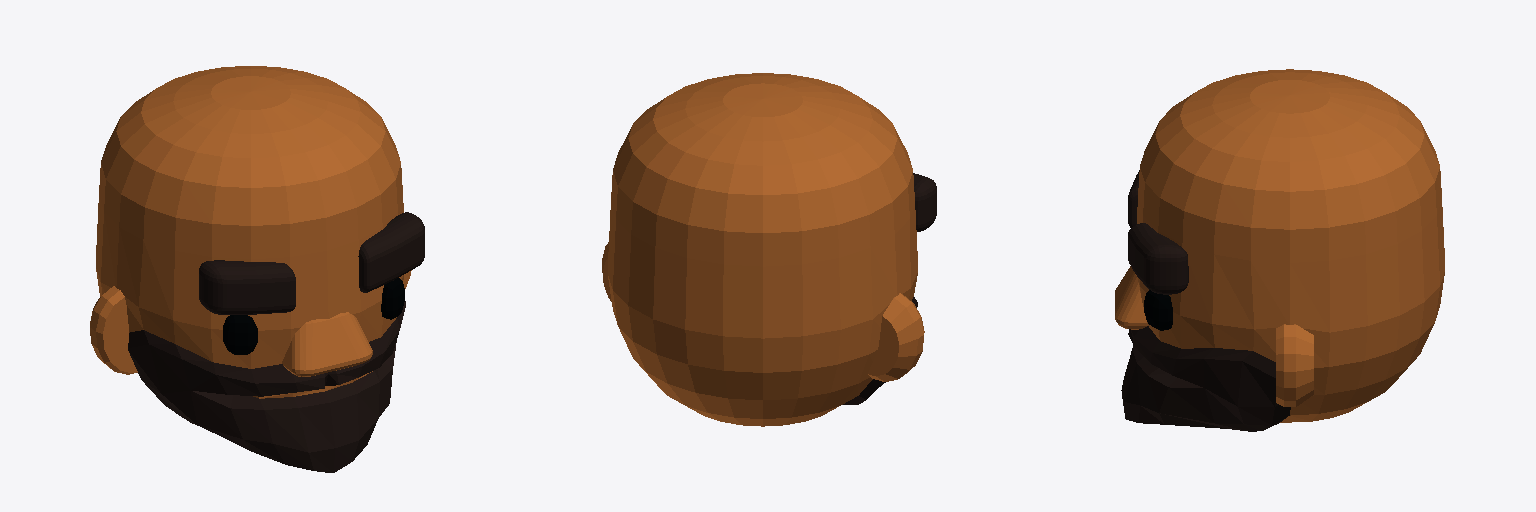
Rendered from barbarianHeadC.obj.
3 renders of one model, left to right at view 1: azimuth 30°, elevation 25°; view 2: azimuth 150°, elevation 25°; view 3: azimuth 270°, elevation 25°, orthographic.
Parts seen in each view (by area): view 1: barbarianHeadC_Cube.3527; view 2: barbarianHeadC_Cube.3527; view 3: barbarianHeadC_Cube.3527.
Part boxes in pixels (x1,y1,x2,y2): barbarianHeadC_Cube.3527: (90, 66, 424, 472); barbarianHeadC_Cube.3527: (602, 73, 936, 426); barbarianHeadC_Cube.3527: (1115, 69, 1444, 431).
Bounding box in the file's own units: 1.18 × 1.14 × 1.06.